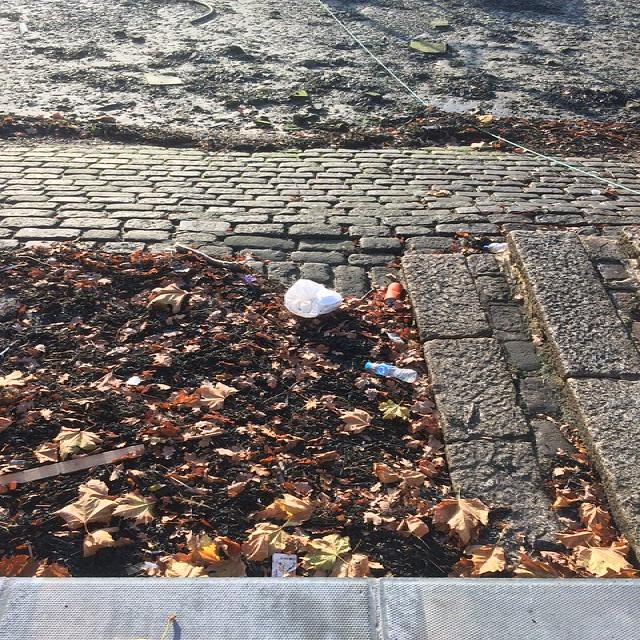Recycle: (362, 360, 416, 385)
Trash: (283, 280, 344, 318), (271, 554, 296, 580)
